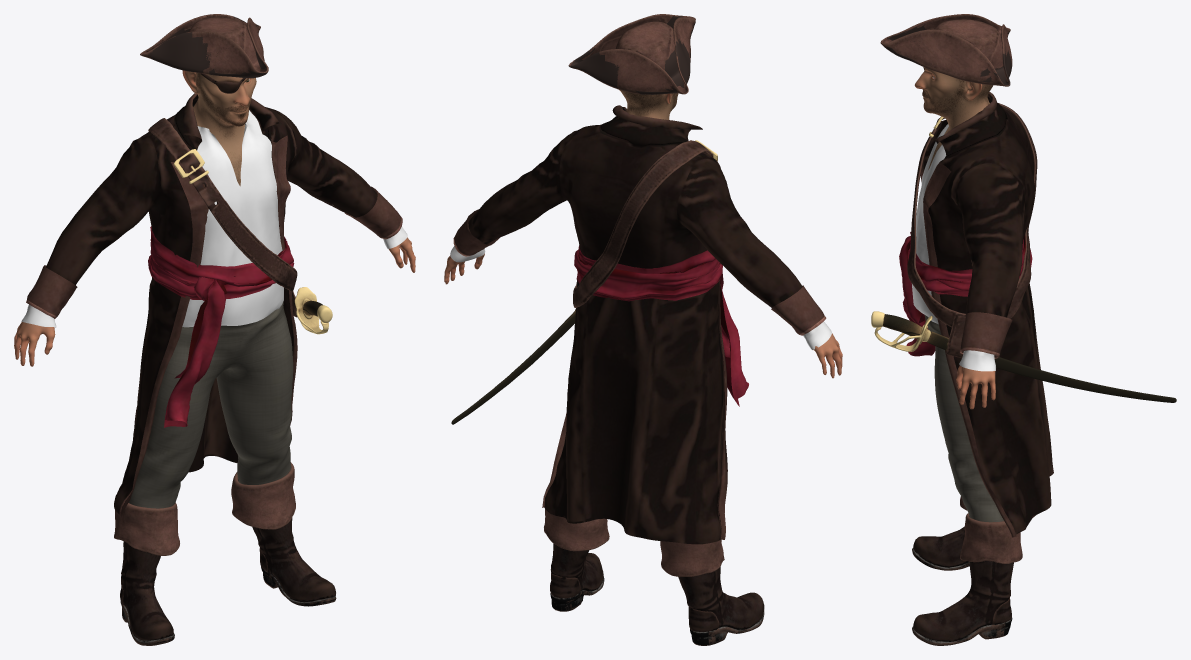
File: bailey_moss_pirate_model.glb
3 renders of one model, left to right at view 1: azimuth 30°, elevation 25°; view 2: azimuth 150°, elevation 25°; view 3: azimuth 270°, elevation 25°, orthographic.
Parts seen in each view (by area): view 1: coat_low, pants_low, boots_low, shirt_low, sash_low, hat_low, body_low, baldric_low, sword_low; view 2: coat_low, boots_low, hat_low, sash_low, baldric_low, body_low, sword_low, shirt_low; view 3: coat_low, boots_low, hat_low, pants_low, body_low, sword_low, baldric_low, sash_low, shirt_low.
Boxes of the visible parts, x1=… form: coat_low: x1=26, y1=93, x2=402, y2=518; pants_low: x1=128, y1=302, x2=293, y2=508; boots_low: x1=114, y1=462, x2=336, y2=645; shirt_low: x1=21, y1=110, x2=407, y2=327; sash_low: x1=148, y1=226, x2=294, y2=427; hat_low: x1=140, y1=14, x2=268, y2=78; body_low: x1=14, y1=70, x2=415, y2=366; baldric_low: x1=148, y1=118, x2=297, y2=317; sword_low: x1=294, y1=287, x2=332, y2=334; coat_low: x1=453, y1=105, x2=826, y2=544; boots_low: x1=544, y1=509, x2=764, y2=645; hat_low: x1=568, y1=14, x2=695, y2=94; sash_low: x1=574, y1=245, x2=748, y2=406; baldric_low: x1=573, y1=140, x2=713, y2=310; body_low: x1=444, y1=89, x2=842, y2=378; sword_low: x1=451, y1=310, x2=575, y2=424; shirt_low: x1=450, y1=246, x2=831, y2=349; coat_low: x1=920, y1=92, x2=1053, y2=537; boots_low: x1=912, y1=496, x2=1022, y2=645; hat_low: x1=880, y1=14, x2=1012, y2=86; pants_low: x1=924, y1=315, x2=1003, y2=522; body_low: x1=914, y1=67, x2=995, y2=409; sword_low: x1=871, y1=311, x2=1176, y2=402; baldric_low: x1=907, y1=102, x2=1037, y2=357; sash_low: x1=899, y1=232, x2=1032, y2=356; shirt_low: x1=912, y1=124, x2=995, y2=371.
Size of the model in its own units: 1.4 by 2 by 0.9587.
5 materials, 5 textured.
